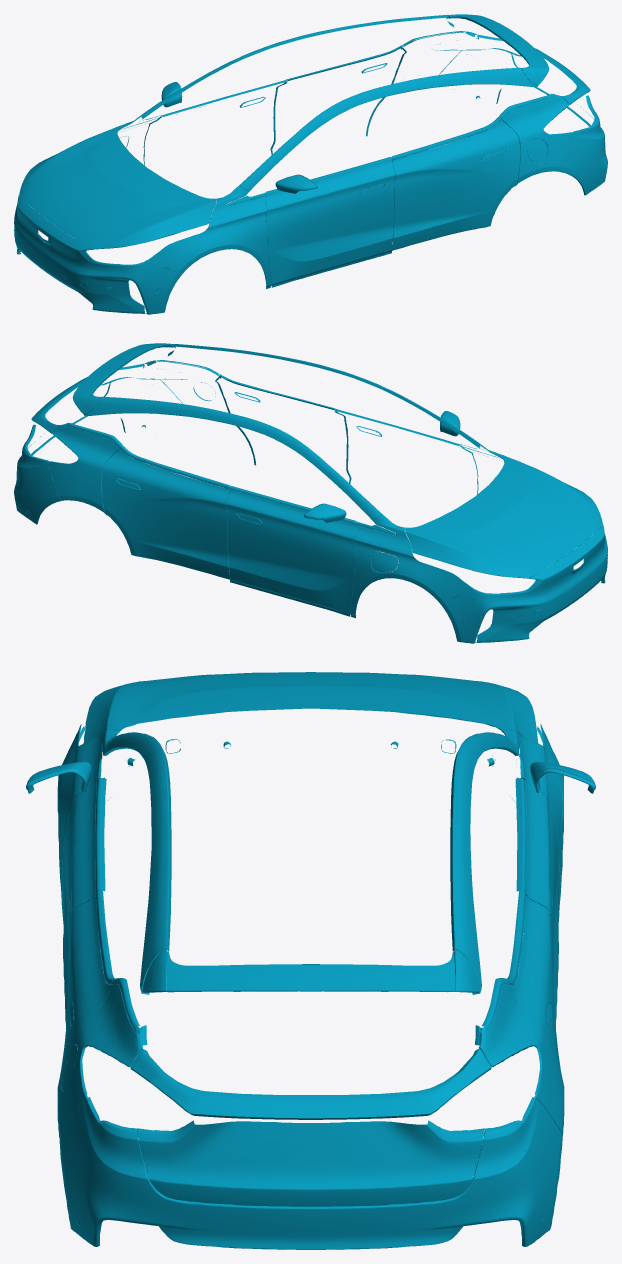
File: cheshenD.glb
The picture shows the model from 3 angles, top to bottom: view 1: azimuth 30°, elevation 25°; view 2: azimuth 150°, elevation 25°; view 3: azimuth 270°, elevation 25°; orthographic projection. The views are drawn at different scales.
Visible parts, largest first — view 1: jinshuyansecheshen, jinshuyansecheshen2, jinshuyansehoushijingzhao; view 2: jinshuyansecheshen, jinshuyansecheshen2, jinshuyansehoushijingzhao; view 3: jinshuyansecheshen, jinshuyansecheshen2, jinshuyansehoushijingzhao.
Part boxes in pixels (bbox=[...]): jinshuyansecheshen: bbox=[14, 30, 607, 314]; jinshuyansecheshen2: bbox=[141, 14, 549, 191]; jinshuyansehoushijingzhao: bbox=[161, 82, 317, 193]; jinshuyansecheshen: bbox=[14, 360, 607, 643]; jinshuyansecheshen2: bbox=[72, 343, 480, 520]; jinshuyansehoushijingzhao: bbox=[304, 411, 460, 522]; jinshuyansecheshen: bbox=[57, 672, 564, 1249]; jinshuyansecheshen2: bbox=[105, 732, 516, 994]; jinshuyansehoushijingzhao: bbox=[26, 761, 595, 793].
Bounding box in the file's own units: 439 × 120 × 205.
